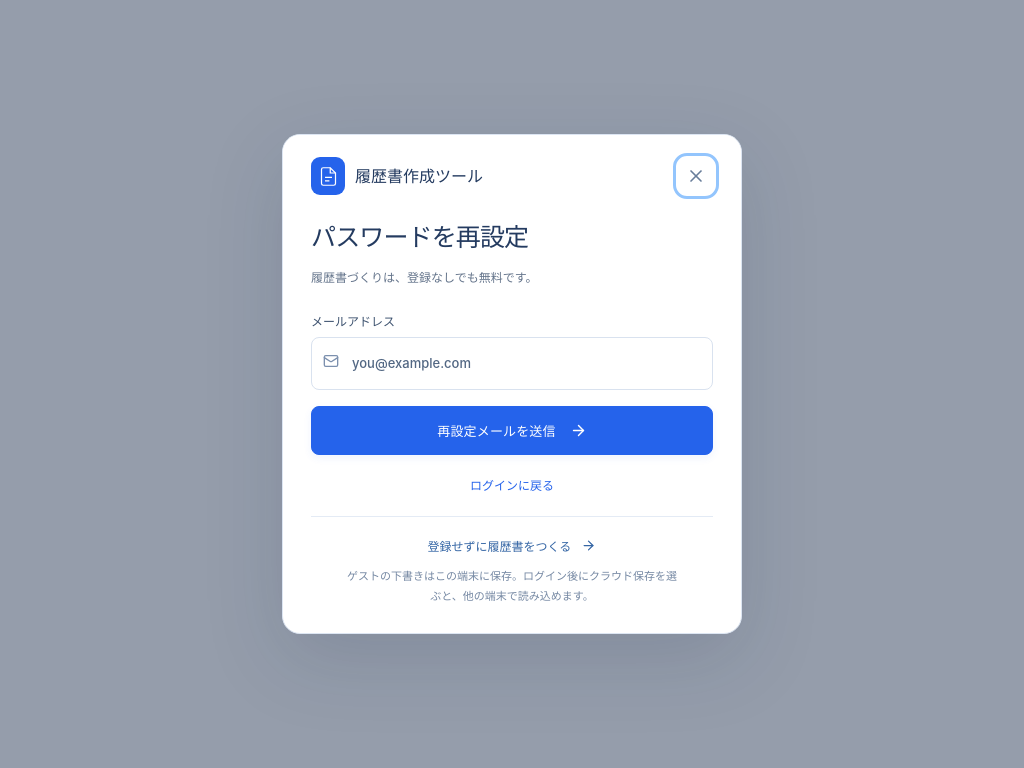
Test: optional account authentication › sends a recovery request with the password reset return URL
Type "returning@example.test" into the field labelled "メールアドレス" at [512, 364], box [311,338,713,390]
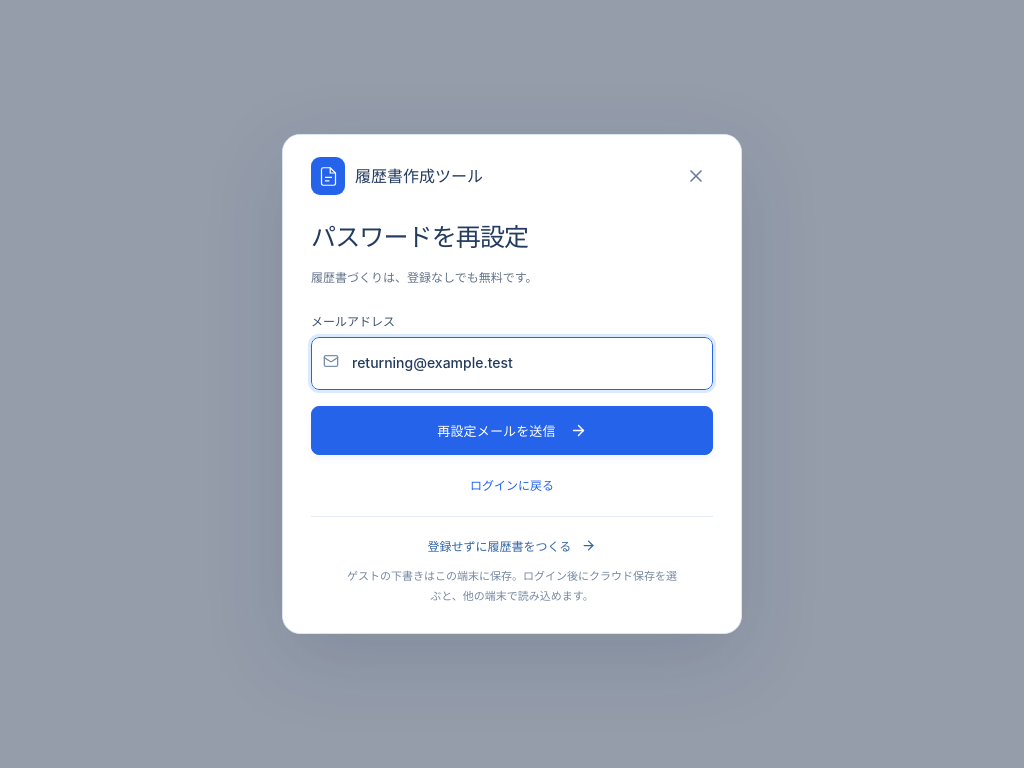
Click the button "再設定メールを送信" at [512, 430], box [311,406,713,455]
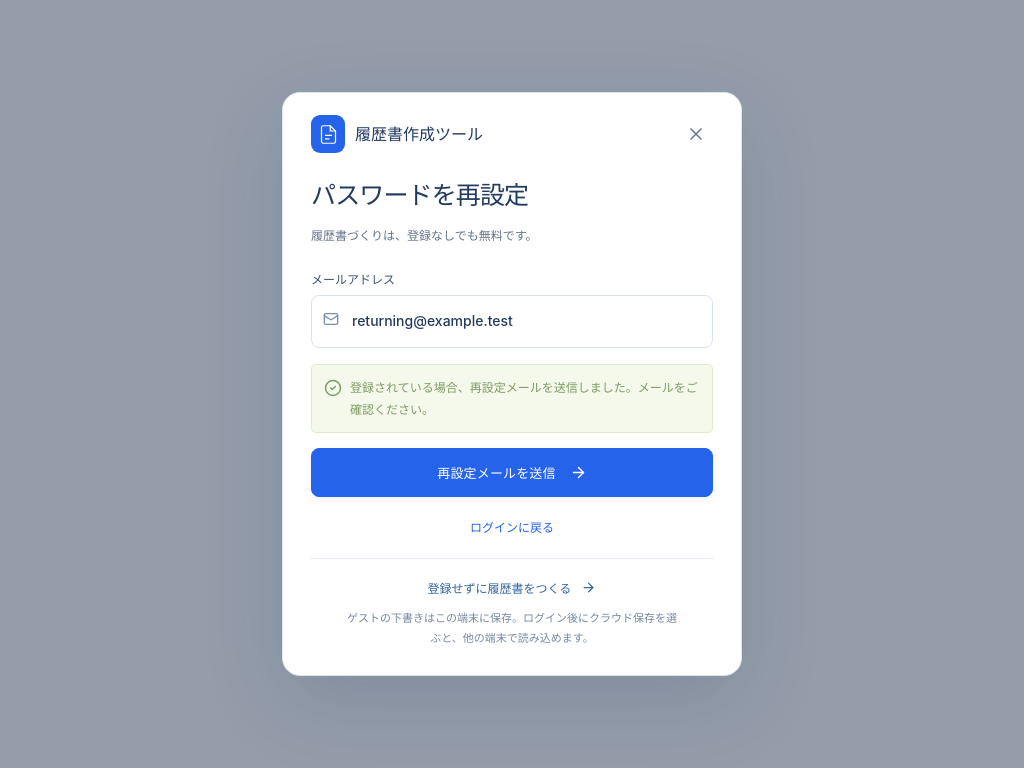
Result: the text "登録されている場合、再設定メールを送信しました。メールをご確認ください。" is shown at [311,364,713,433]
